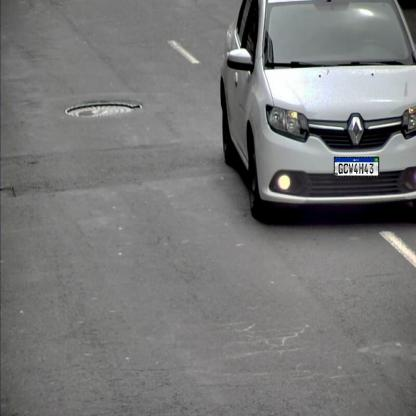PlacaM: (334, 156, 379, 177)
